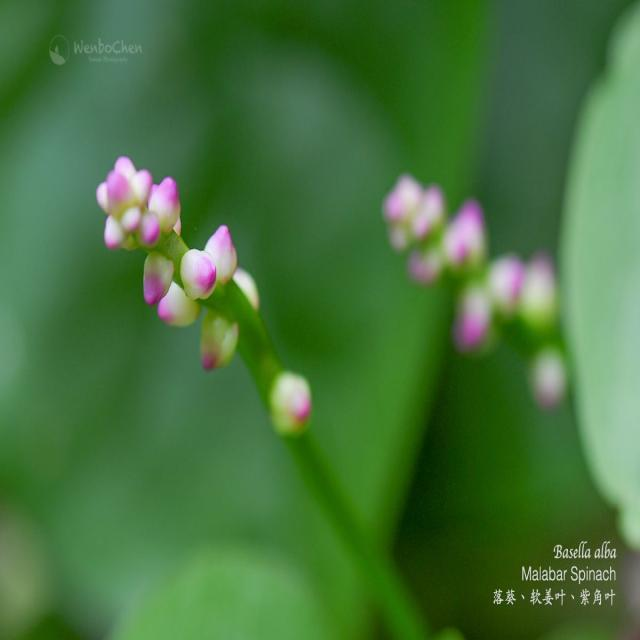Medicinal-Basale: (70, 99, 570, 519)
